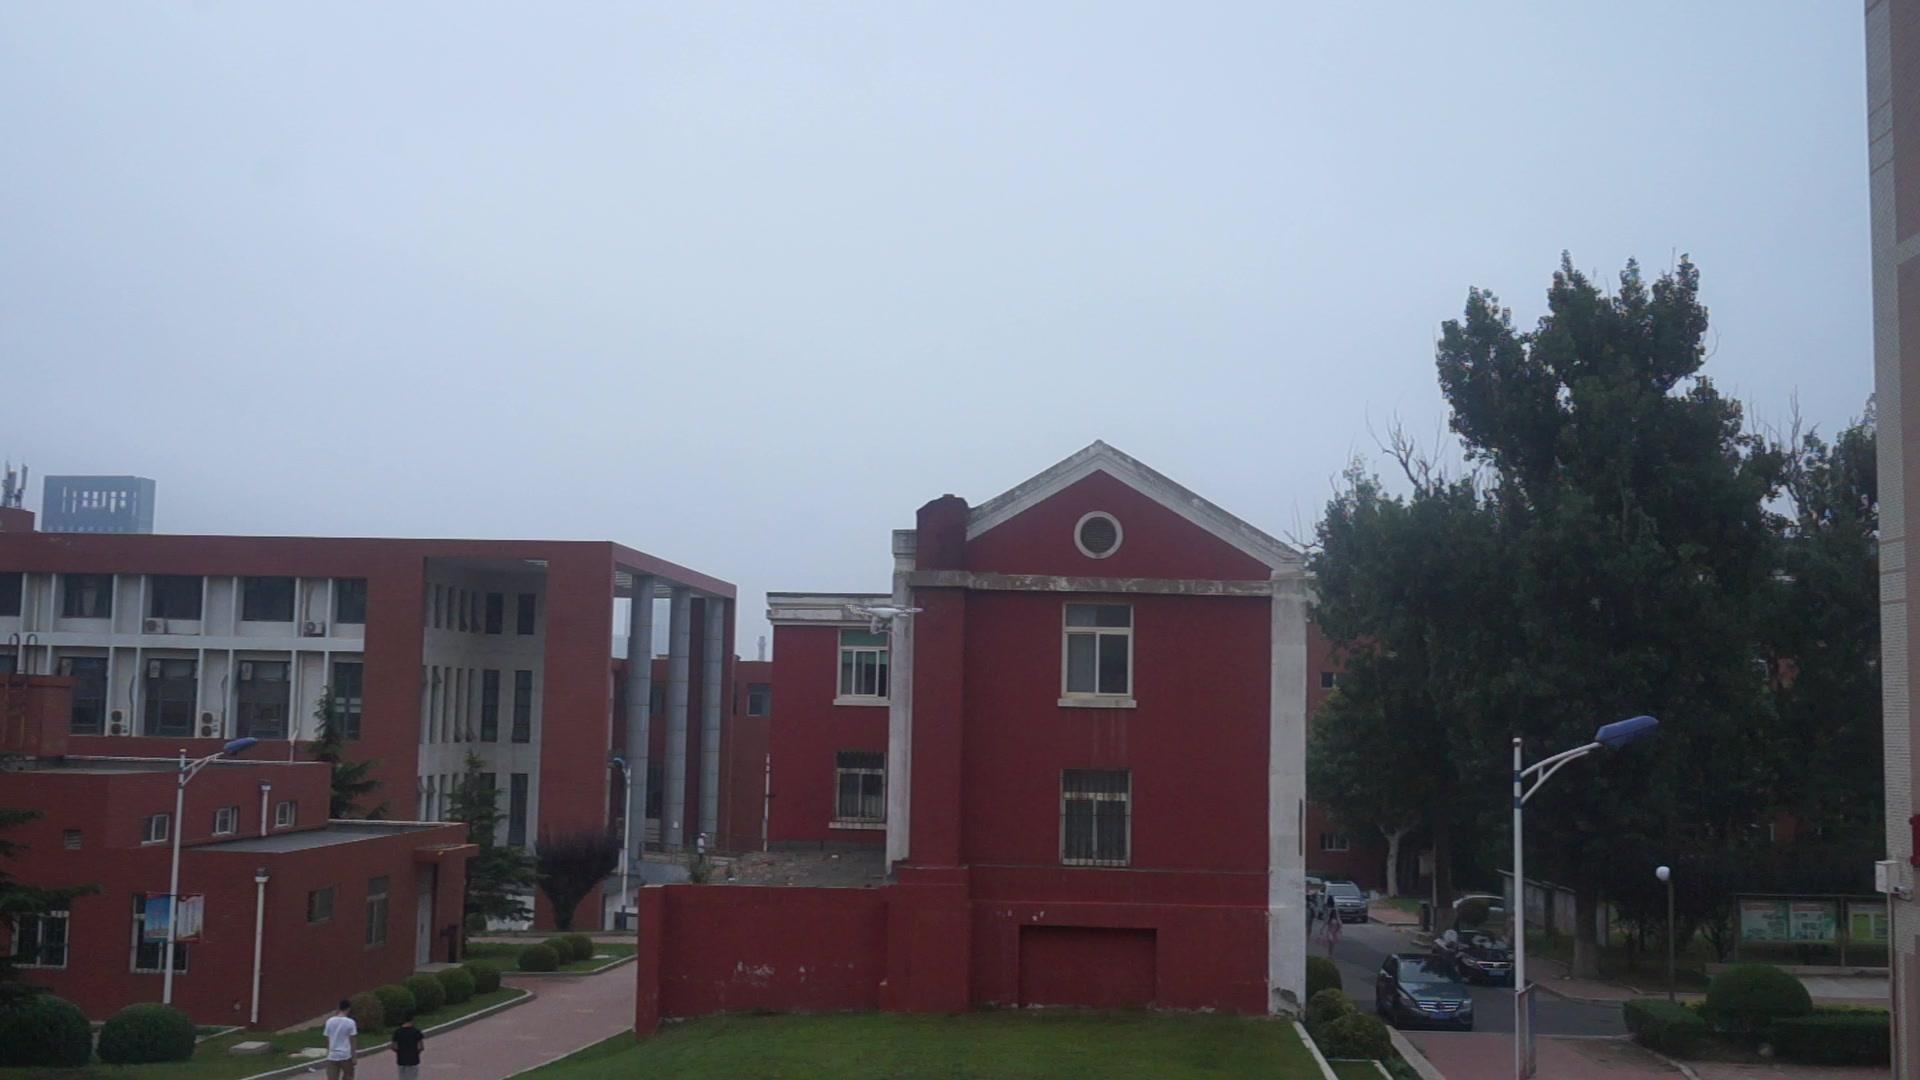UAV: (848, 604, 924, 636)
